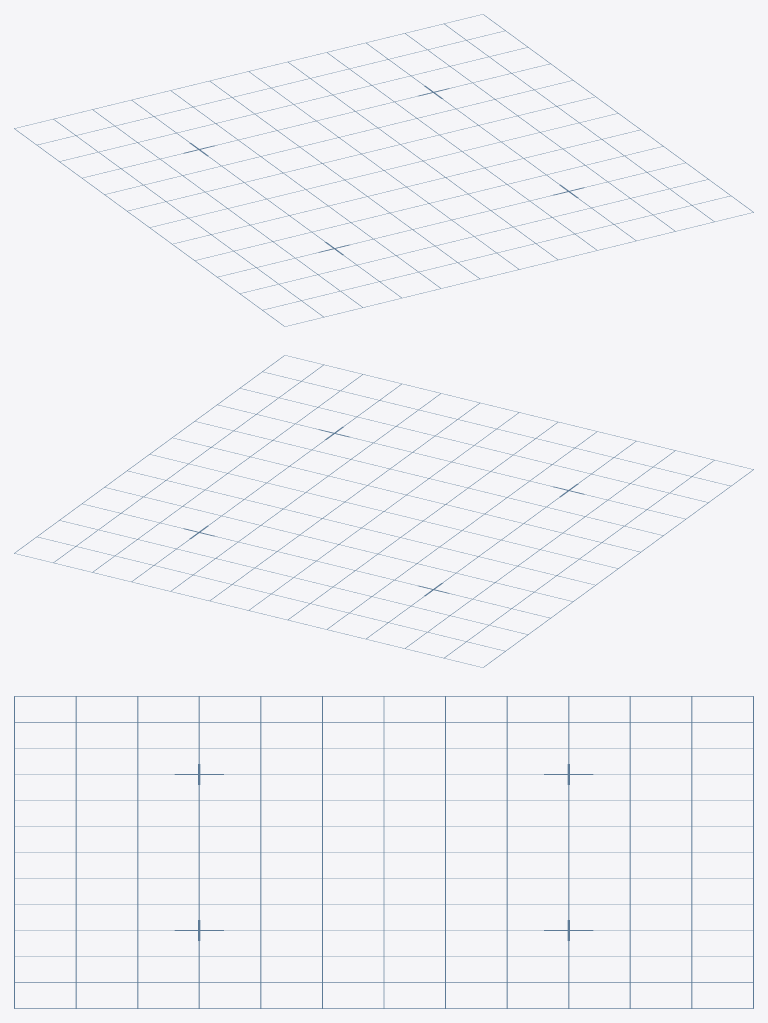
File: drafting-grid.glb
3 views of the same model, one above another, from view 1: azimuth 30°, elevation 25°; view 2: azimuth 150°, elevation 25°; view 3: azimuth 270°, elevation 25° (orthographic). The views are drawn at different scales.
Parts seen in each view (by area): view 1: DraftingGrid; view 2: DraftingGrid; view 3: DraftingGrid.
Part boxes in pixels (<box>): DraftingGrid: <box>14,14,753,326</box>; DraftingGrid: <box>14,355,753,667</box>; DraftingGrid: <box>14,696,753,1008</box>.
Size of the model in its own units: 6.01 by 0 by 6.01.
